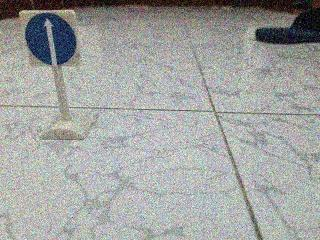straight: (19, 9, 85, 70)
